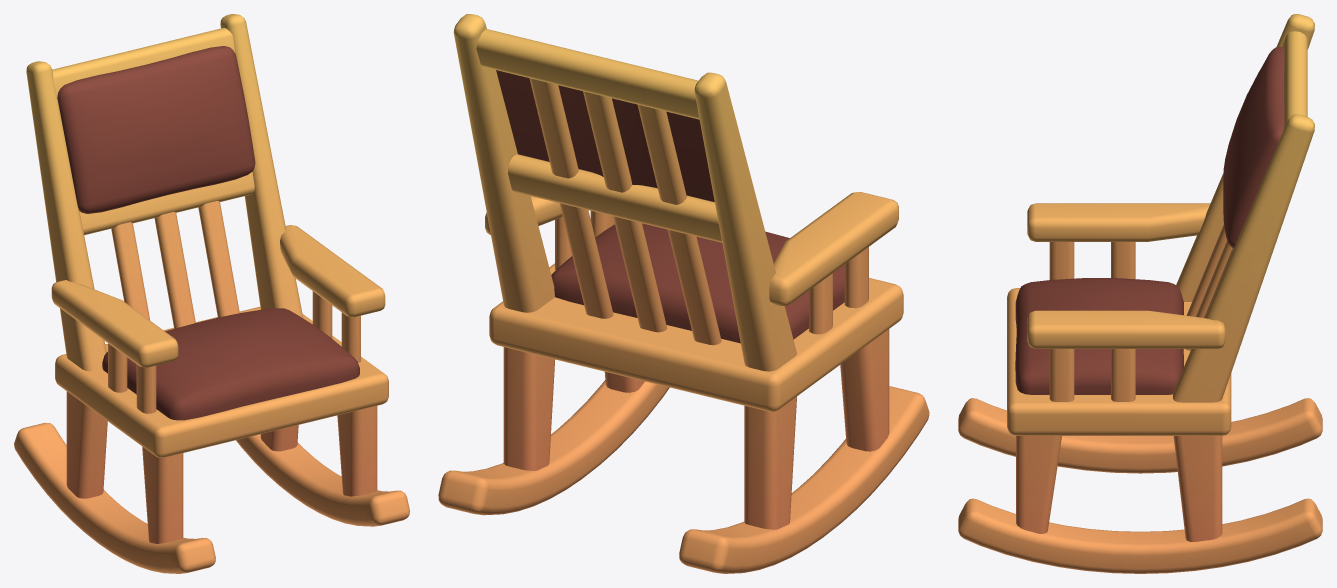
File: Armchair_24.glb
The picture shows the model from 3 angles, left to right: view 1: azimuth 30°, elevation 25°; view 2: azimuth 150°, elevation 25°; view 3: azimuth 270°, elevation 25°; orthographic projection. The views are drawn at different scales.
Visible parts, largest first — view 1: Armchair_24; view 2: Armchair_24; view 3: Armchair_24.
Boxes of the visible parts, <box> form: Armchair_24: <box>14,14,409,573</box>; Armchair_24: <box>438,14,929,573</box>; Armchair_24: <box>958,14,1322,573</box>.
Size of the model in its own units: 0.6729 by 1.11 by 0.8126.
1 material, 1 textured.
